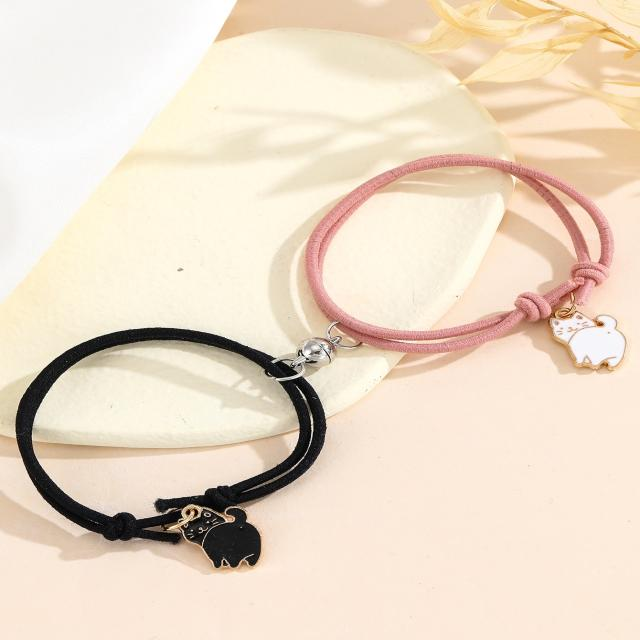bracelet: (19, 255, 402, 640), (318, 80, 640, 506)
